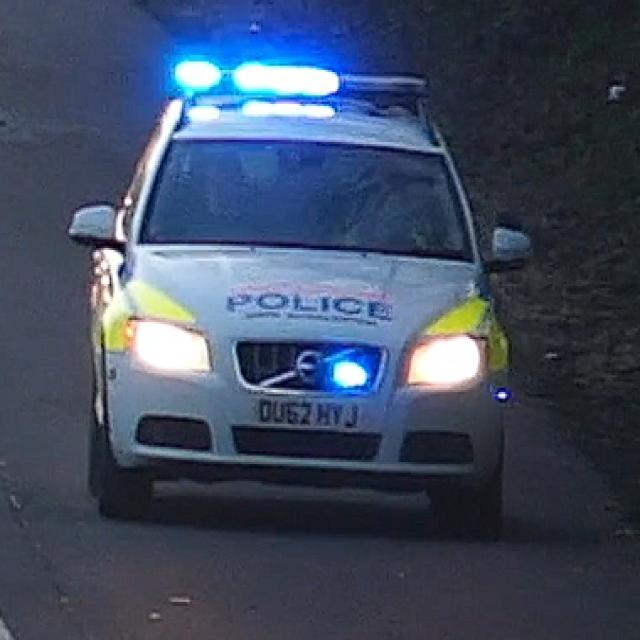emergency lights: (149, 38, 490, 162), (327, 346, 386, 406)
